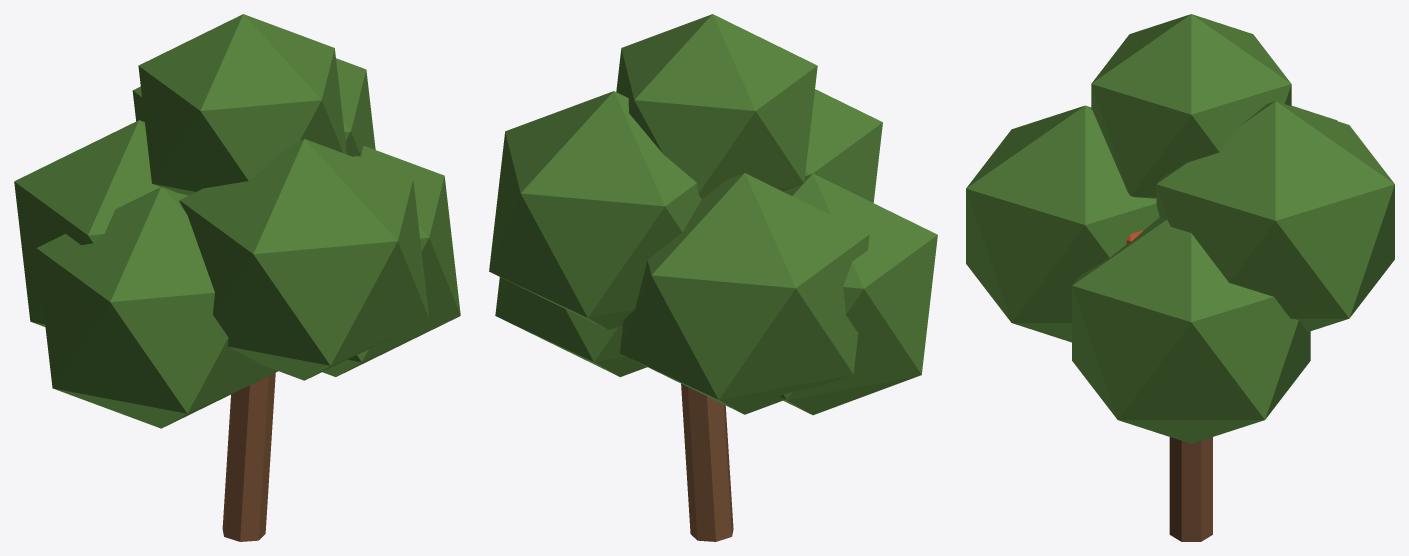
The model's file is tree_18.glb.
3 renders of one model, left to right at view 1: azimuth 30°, elevation 25°; view 2: azimuth 150°, elevation 25°; view 3: azimuth 270°, elevation 25°, orthographic.
Visible parts, largest first — view 1: tree_18; view 2: tree_18; view 3: tree_18.
Boxes of the visible parts, <box> form: tree_18: <box>14,14,460,541</box>; tree_18: <box>489,14,937,541</box>; tree_18: <box>966,14,1394,541</box>.
Bounding box in the file's own units: 1.45 × 1.8 × 1.35.
